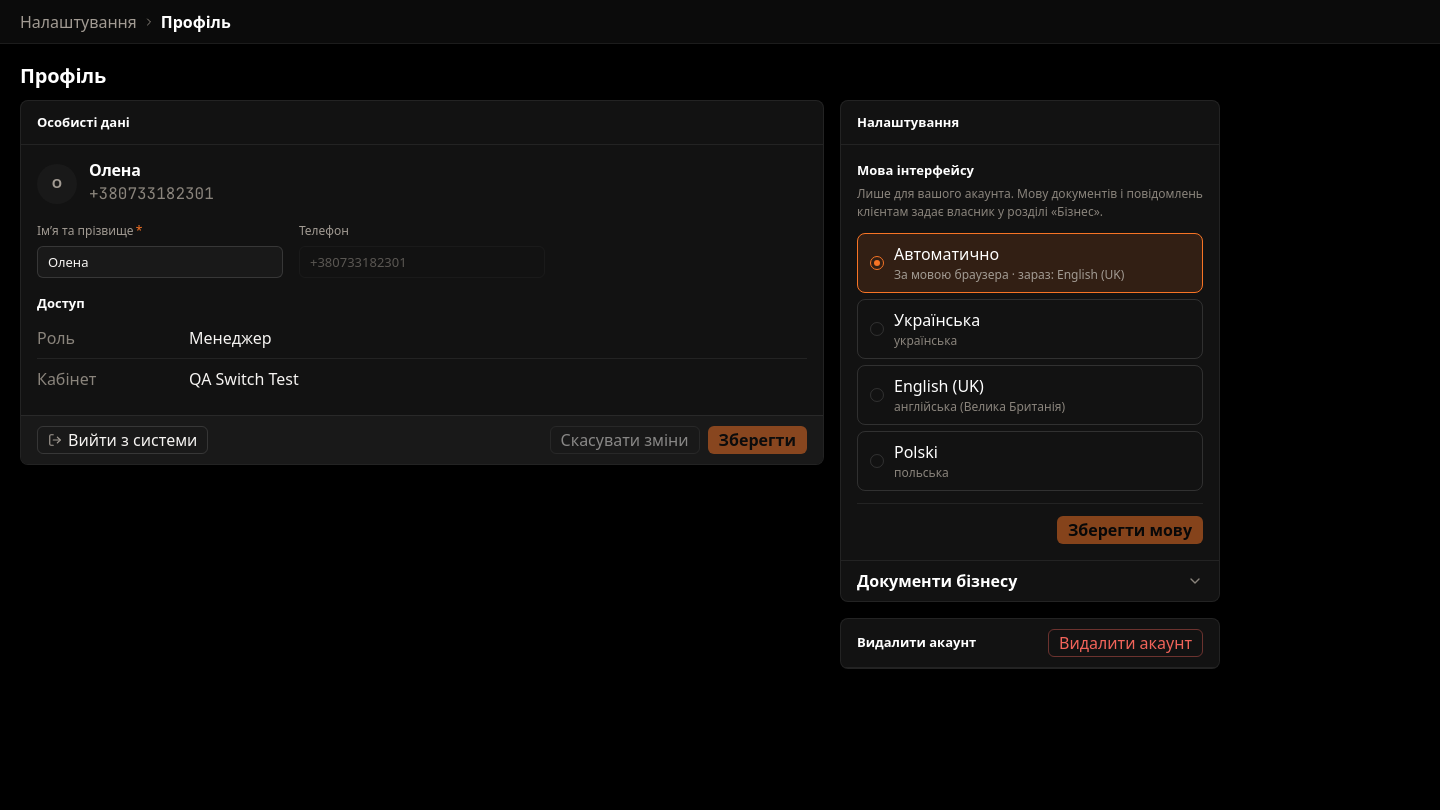
keeps the typed value and shows a retryable error when saving fails
Replace the text in the field labelled "Ім’я та прізвище" with "Нове ім’я" at (160, 262), box [37,246,283,278]
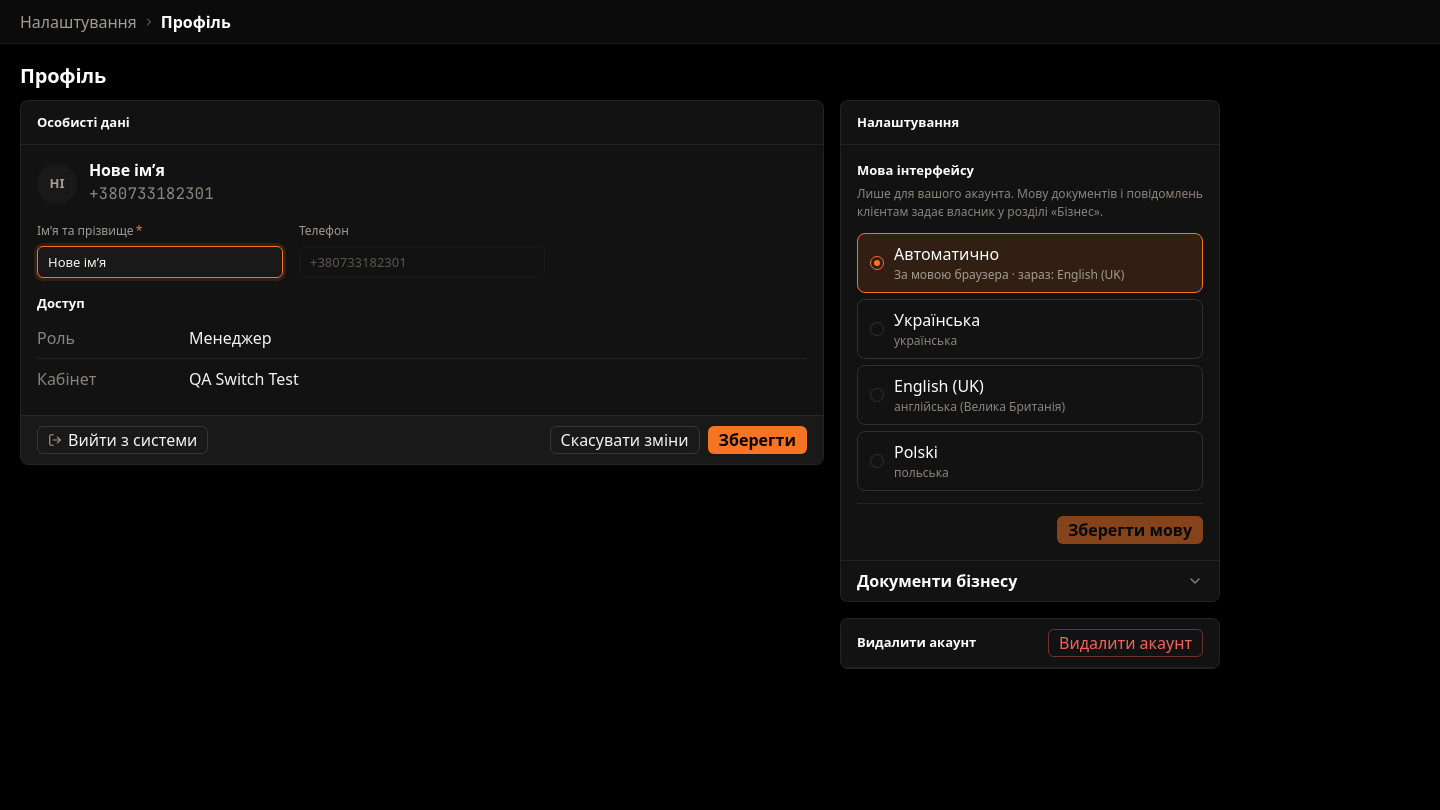
Click the button "Зберегти" at (757, 440), box [708,426,807,454]
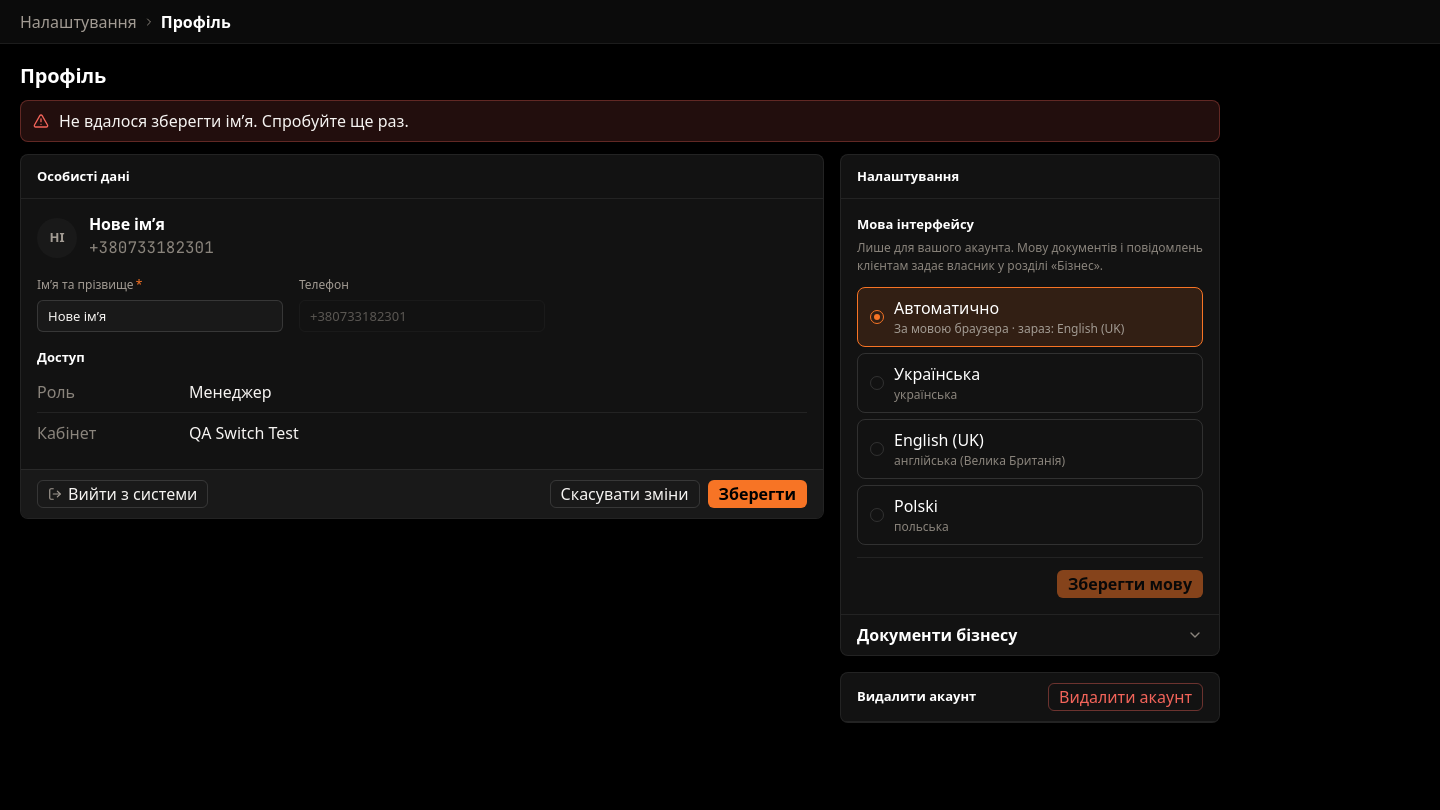
Now the button "Зберегти" is enabled, box [708,480,807,508]
Now the message reads "Не вдалося зберегти ім’я. Спробуйте ще раз.", box [59,110,409,132]
